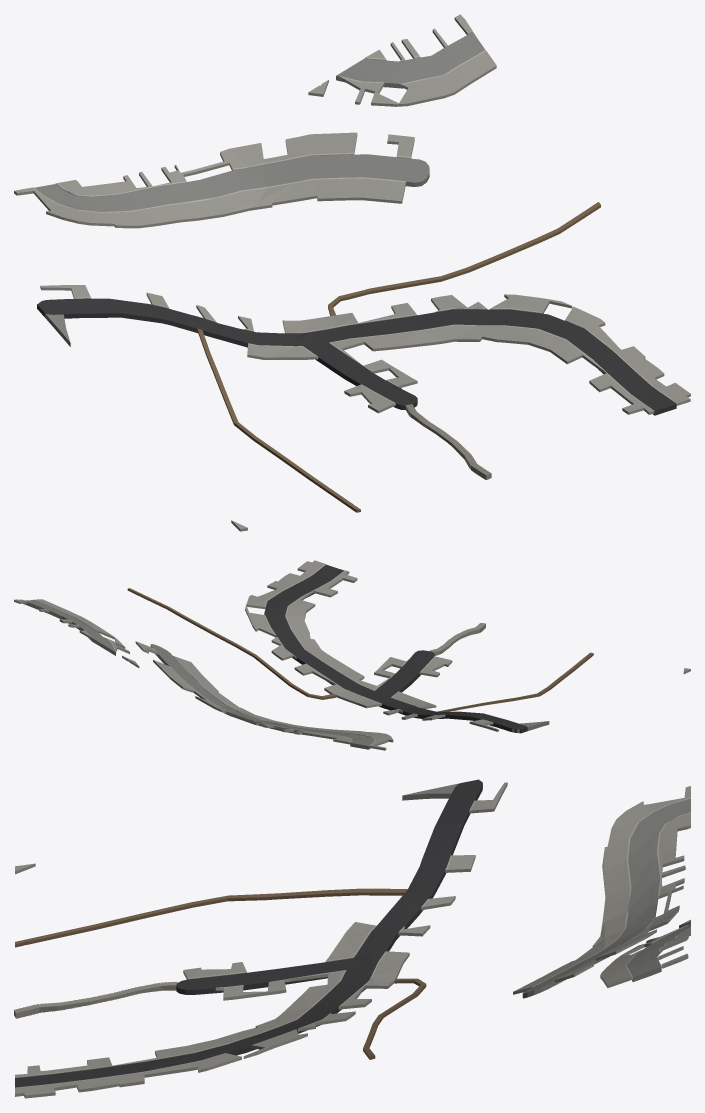
3 renders of one model, top to bottom at view 1: azimuth 30°, elevation 25°; view 2: azimuth 150°, elevation 25°; view 3: azimuth 270°, elevation 25°, orthographic. The views are drawn at different scales.
Size of the model in its own units: 147 by 50.39 by 146.
